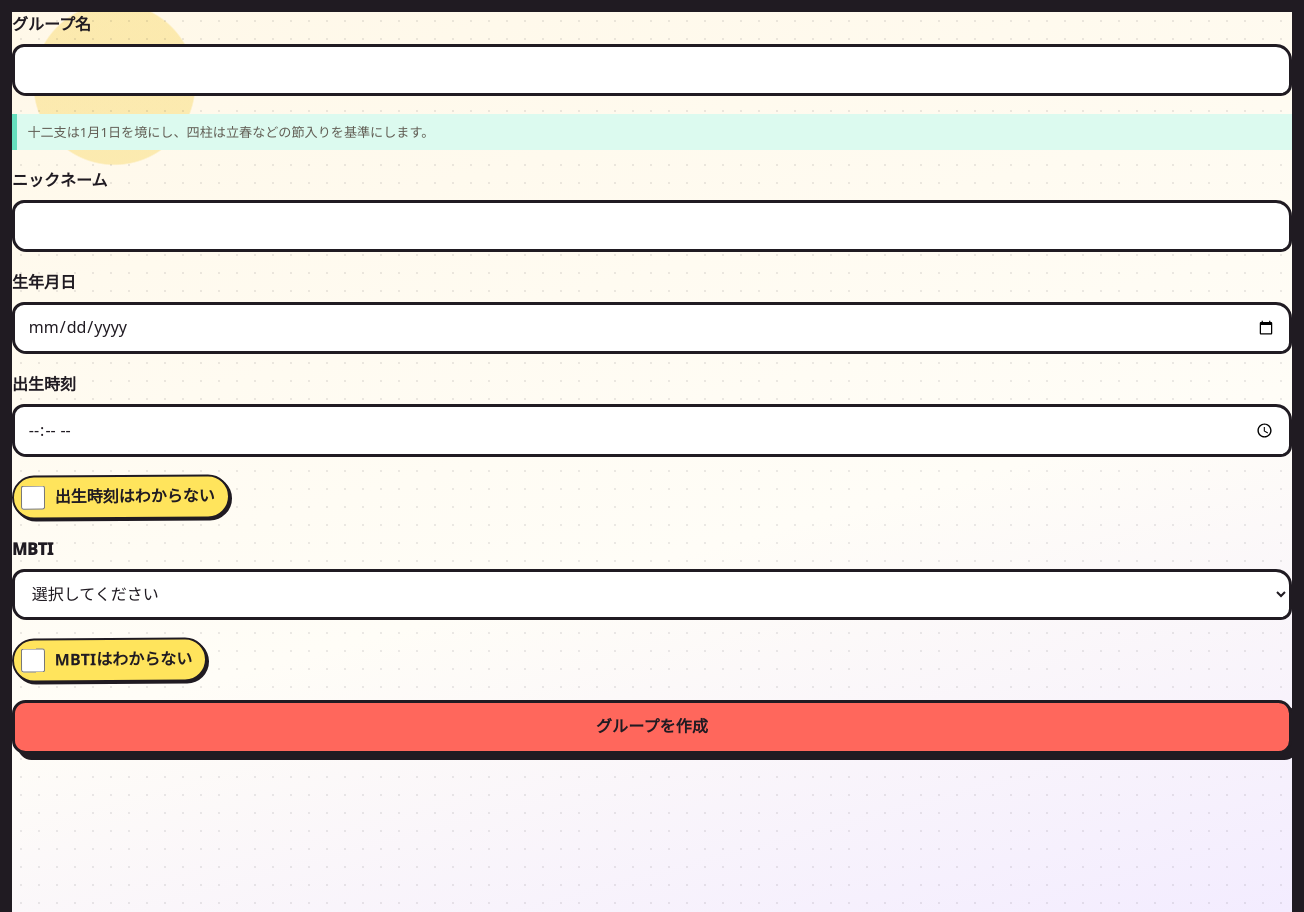
CreateGroupForm › keeps retry data only in React memory after a provider failure
The image size is (1304, 912).
In the field labelled "グループ名": [652, 70] box [12,44,1292,96], type "  なかまたち  "
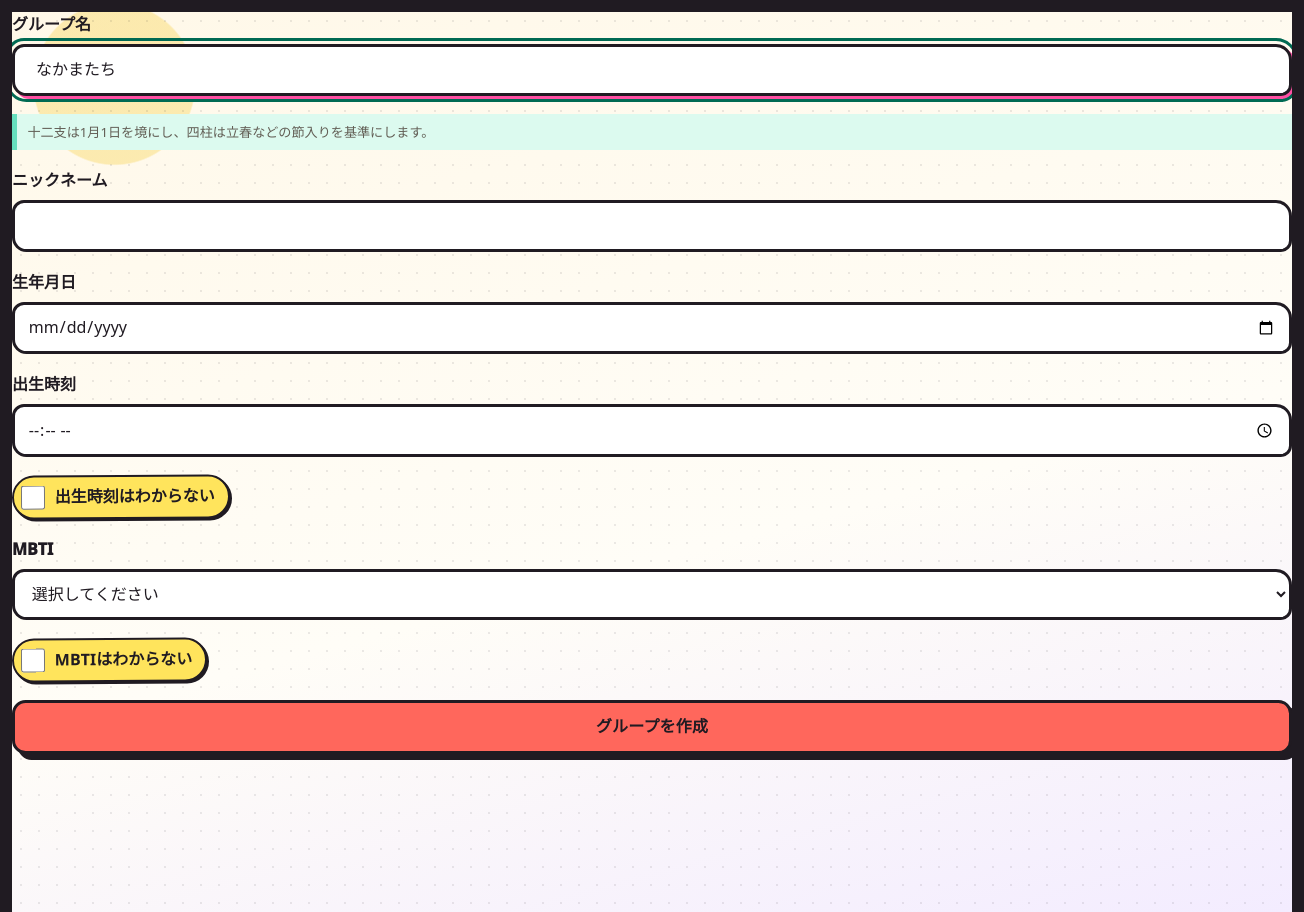
In the field labelled "ニックネーム": [652, 226] box [12,200,1292,252], type "  もふ  "
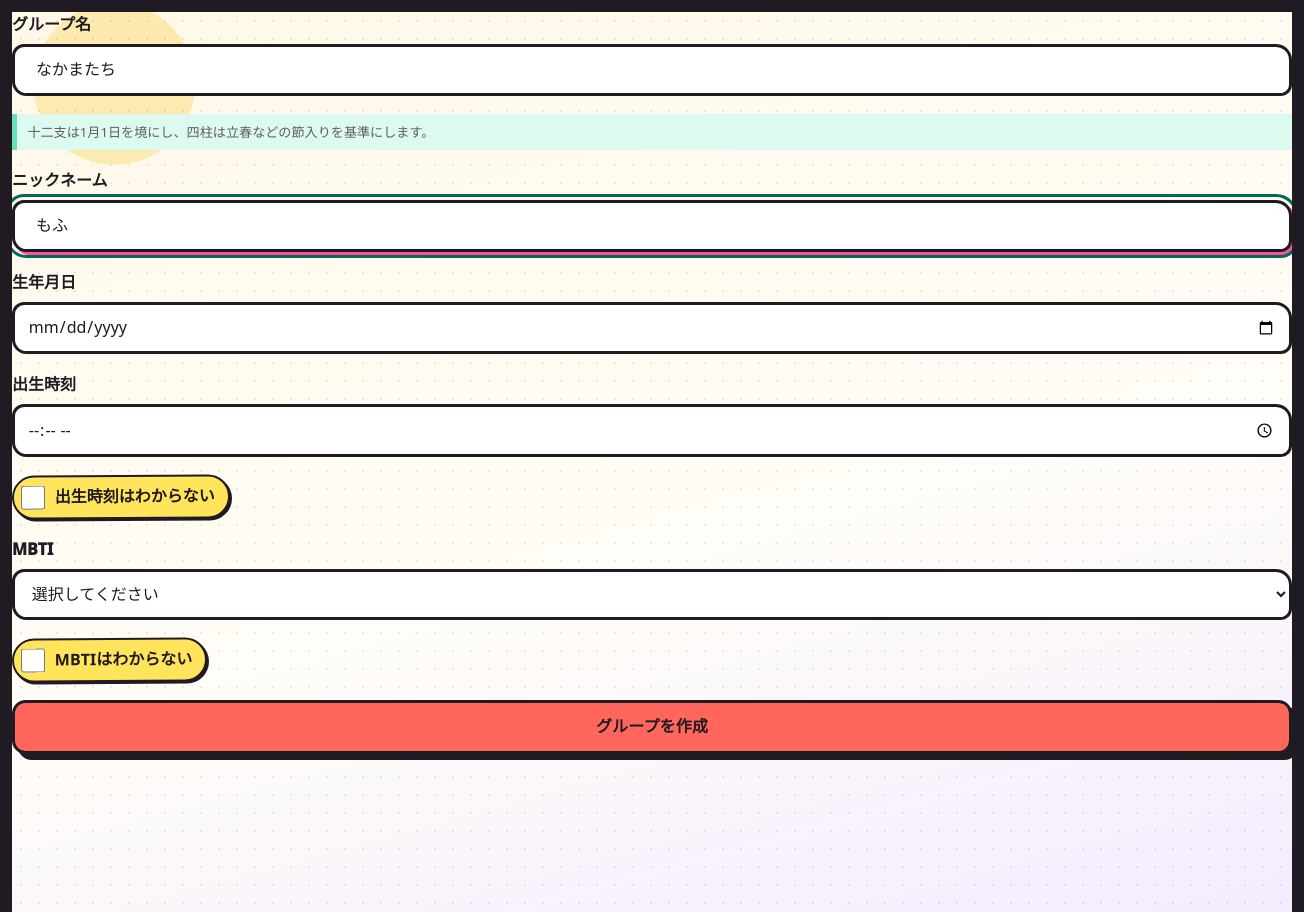
In the date field labelled "生年月日": [652, 328] box [12,302,1292,354], type "2000-02-29"
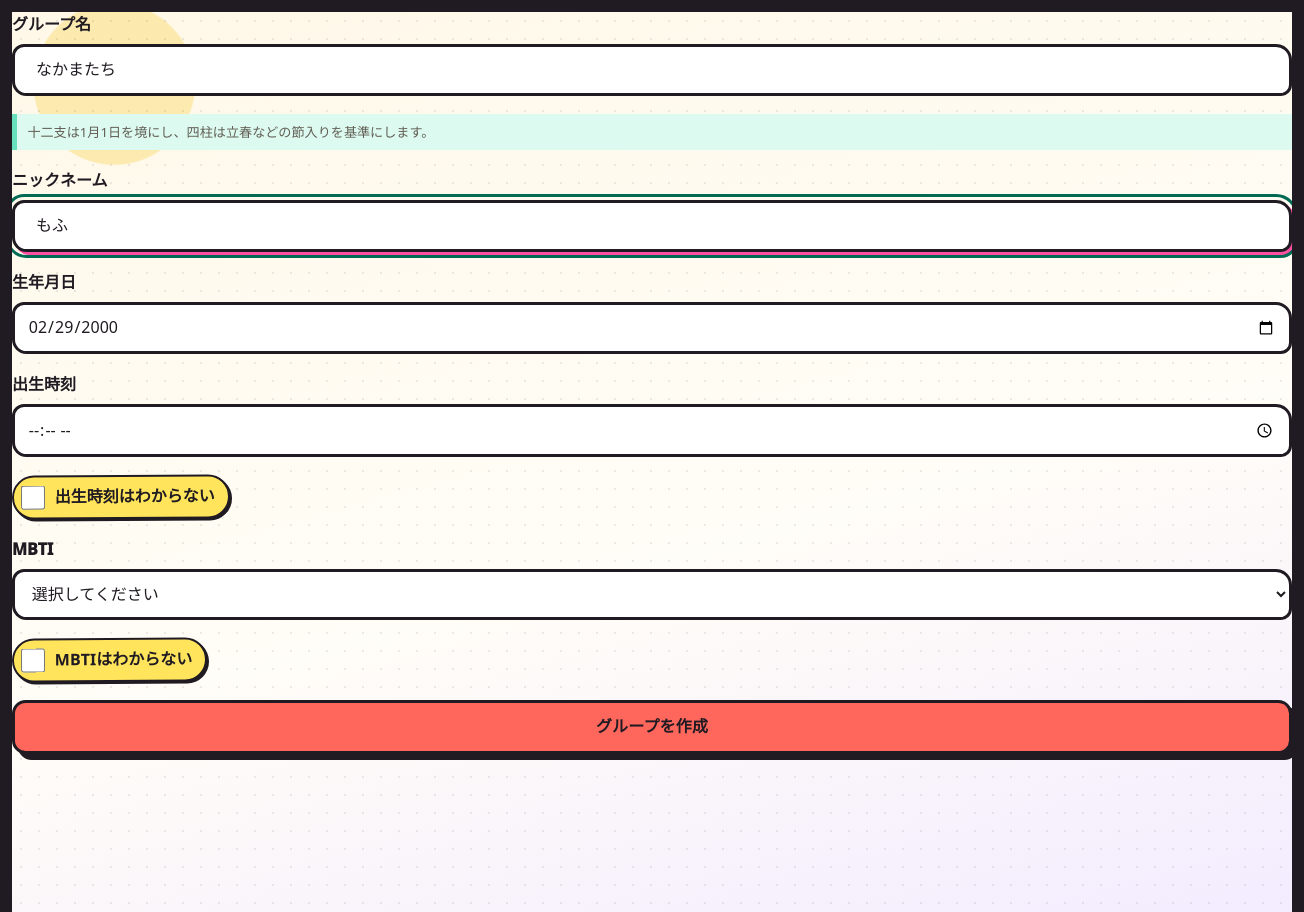
In the time field labelled "出生時刻": [652, 431] box [12,404,1292,457], type "09:05"
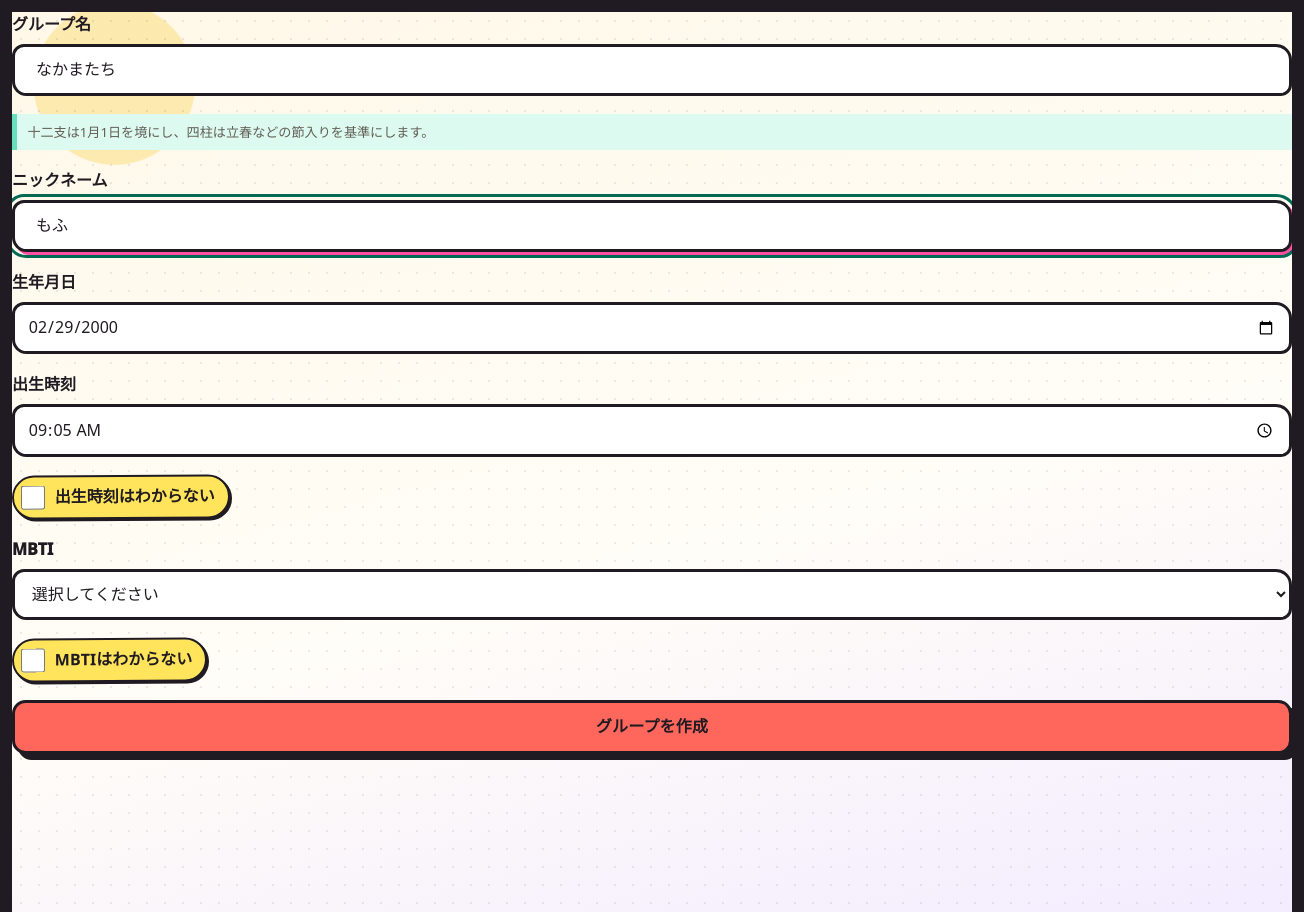
Select "ENFP" in the dropdown labelled "MBTI": [652, 594] box [12,569,1292,620]
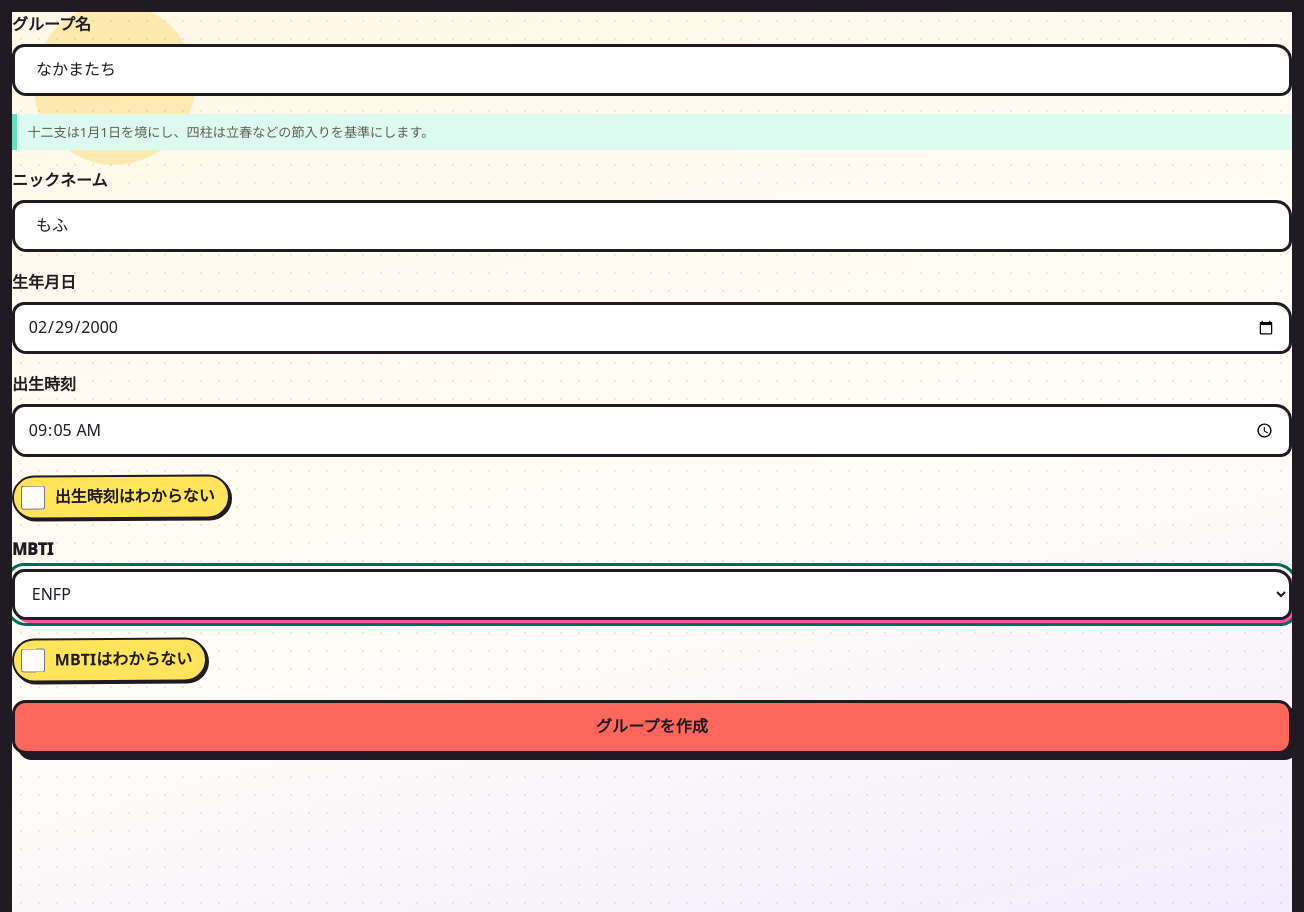
Click the button "グループを作成": [652, 727] box [12,700,1292,754]
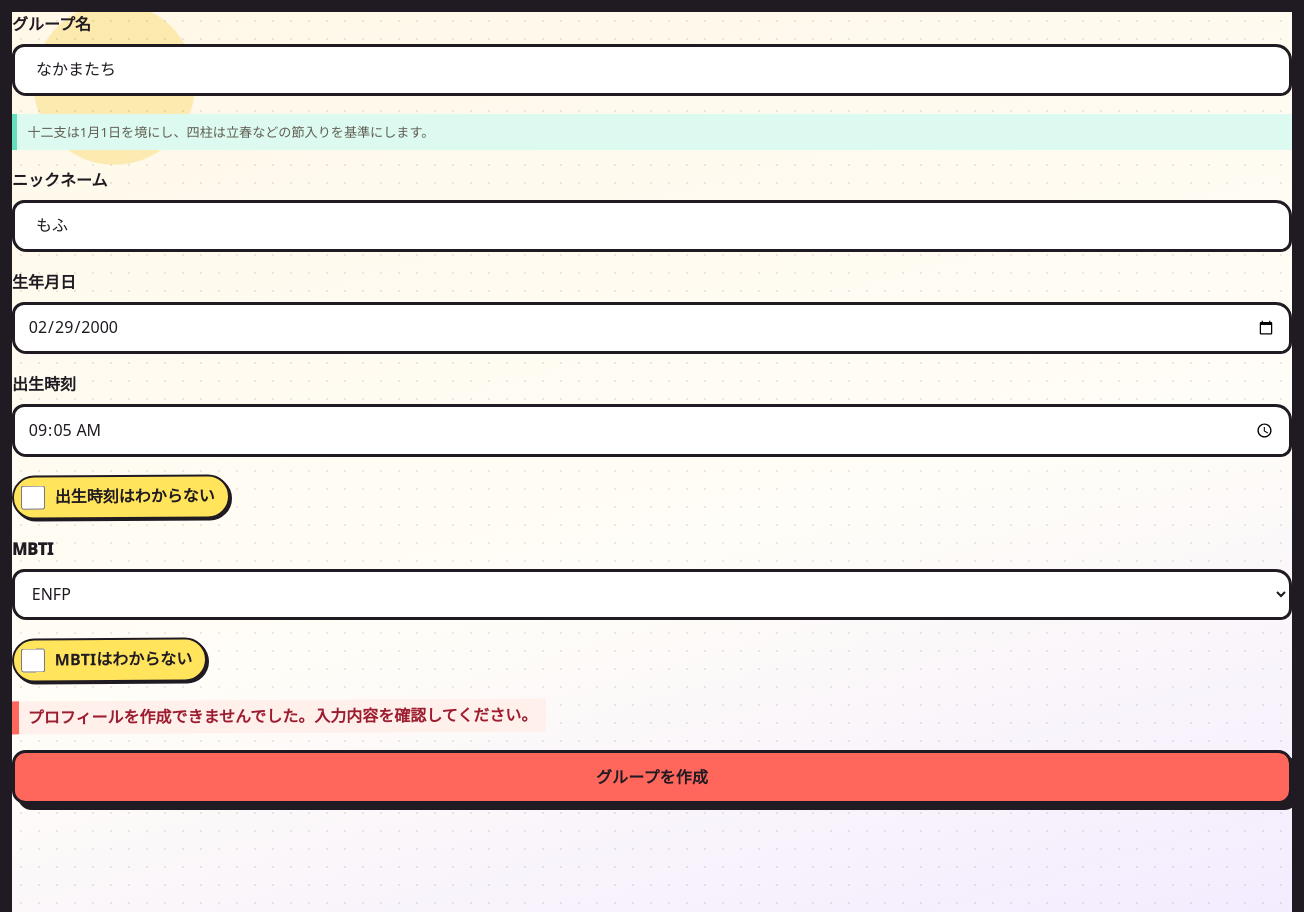
Check: the message reads "プロフィールを作成できませんでした。入力内容を確認してください。", box [28,703,537,727]
